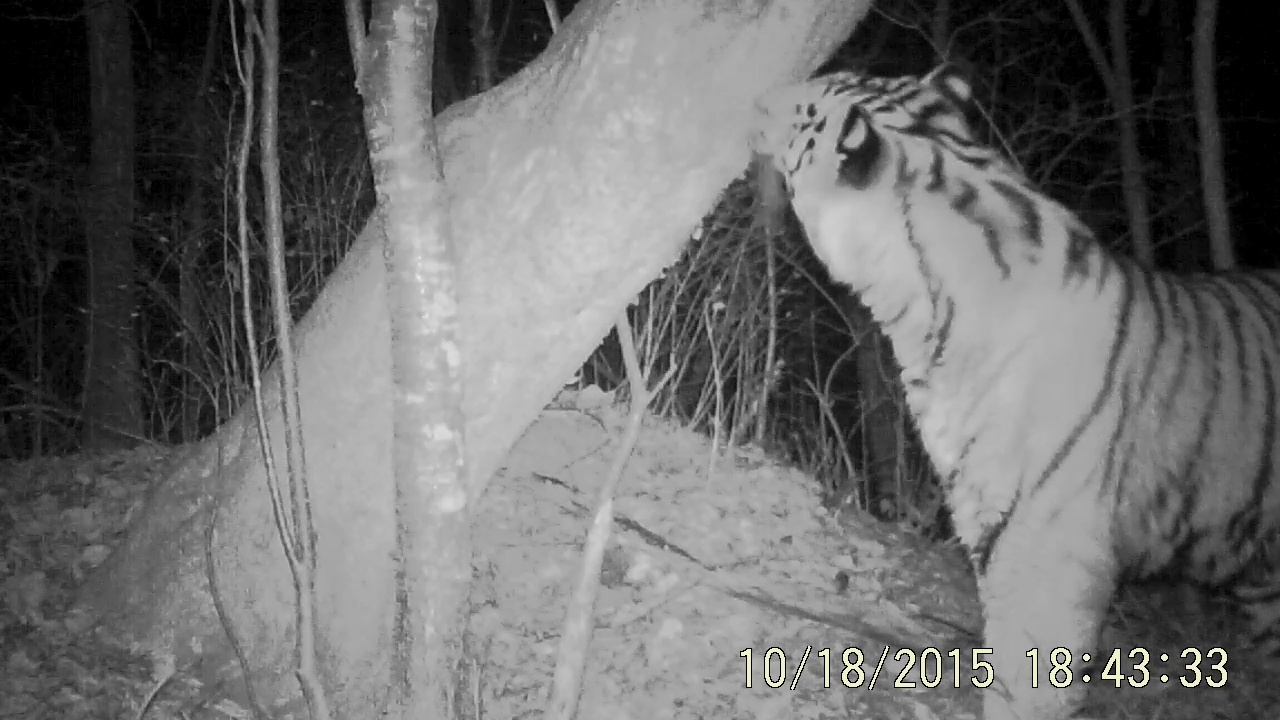Tiger: (742, 43, 1280, 648)
